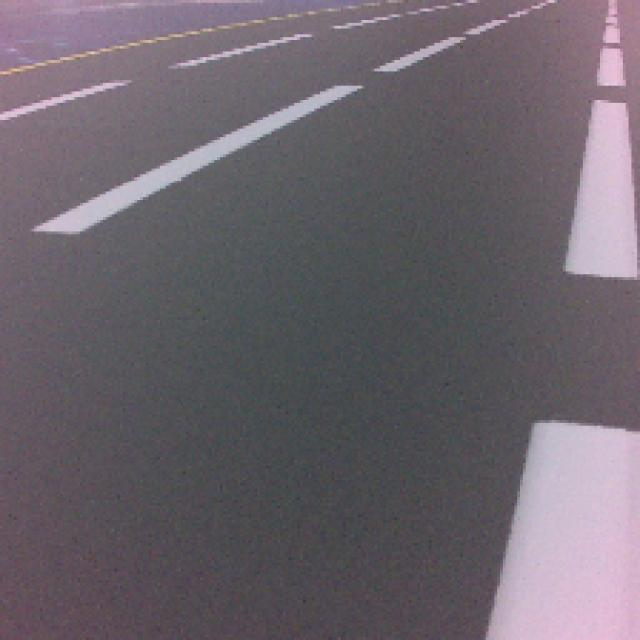Pedestrian crosswalk: (489, 420, 638, 638)
